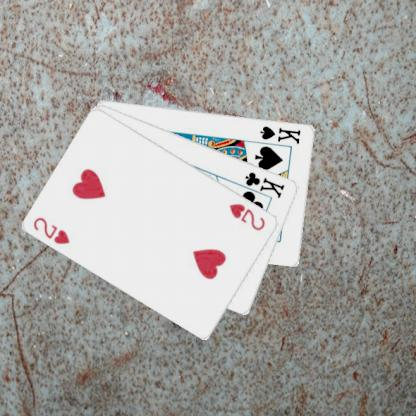2H: (30, 214, 72, 246), (226, 200, 267, 232)
KC: (236, 169, 286, 201)
KS: (257, 122, 303, 145)
